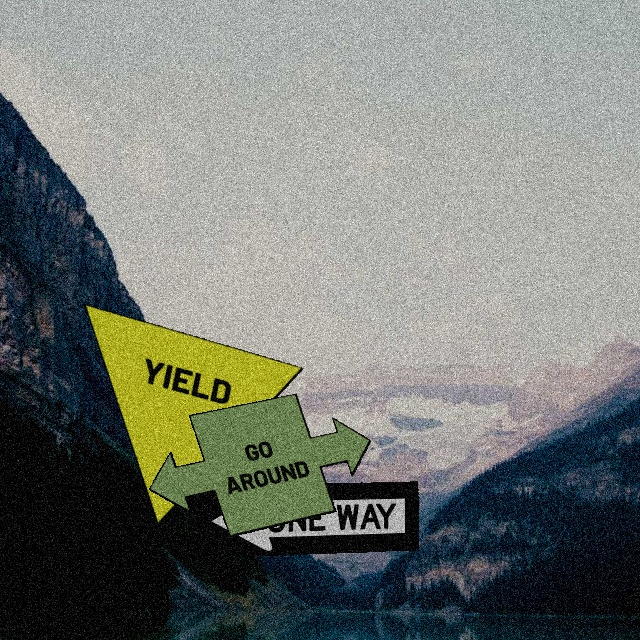GO_AROUND: (148, 393, 371, 537)
ONE_WAY_ left: (196, 481, 419, 558)
YIELD: (83, 303, 304, 526)
